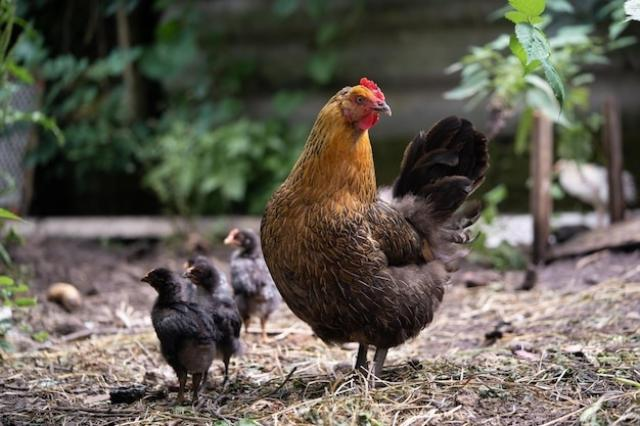Chicken: (260, 77, 489, 382)
